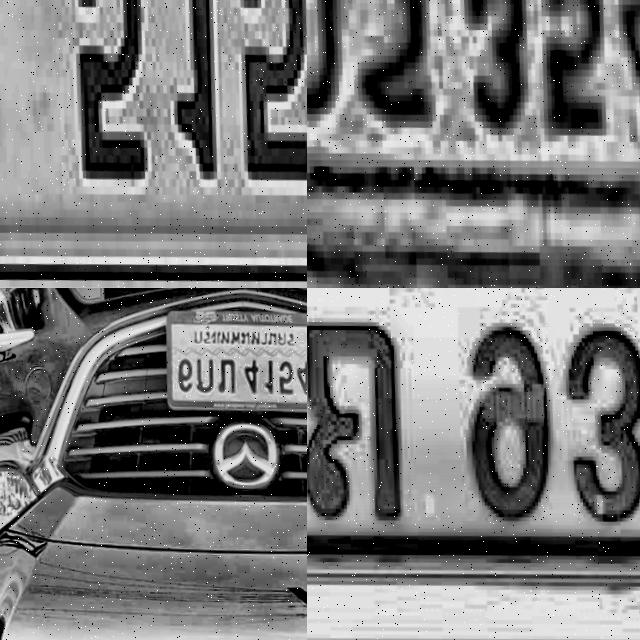license-plate: (307, 288, 640, 590), (0, 0, 307, 288), (307, 0, 640, 251), (158, 305, 307, 416)
